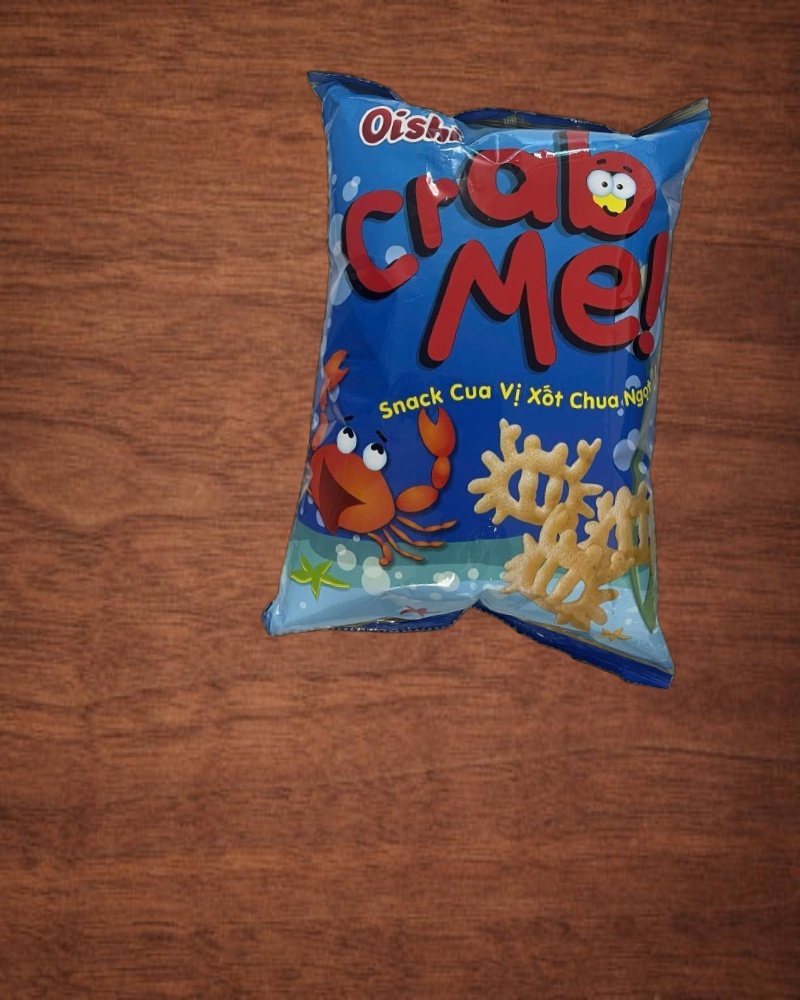Snack chay: (257, 63, 725, 692)
